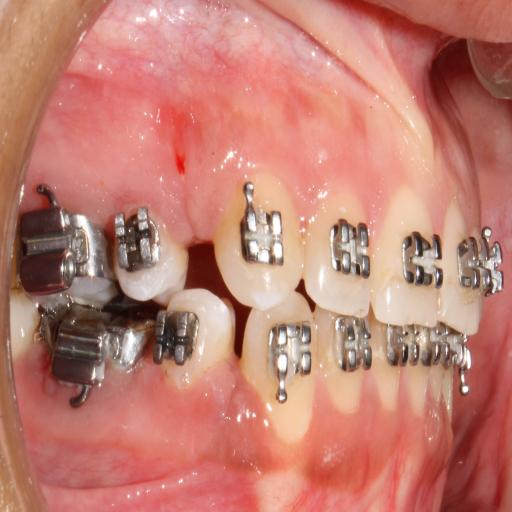correct_brace: (152, 288, 234, 392), (105, 204, 190, 302), (232, 183, 289, 275), (264, 318, 312, 400), (329, 200, 371, 291), (395, 219, 443, 296), (156, 303, 200, 368)
incorrect_brace: (305, 190, 372, 316), (113, 207, 162, 271)
